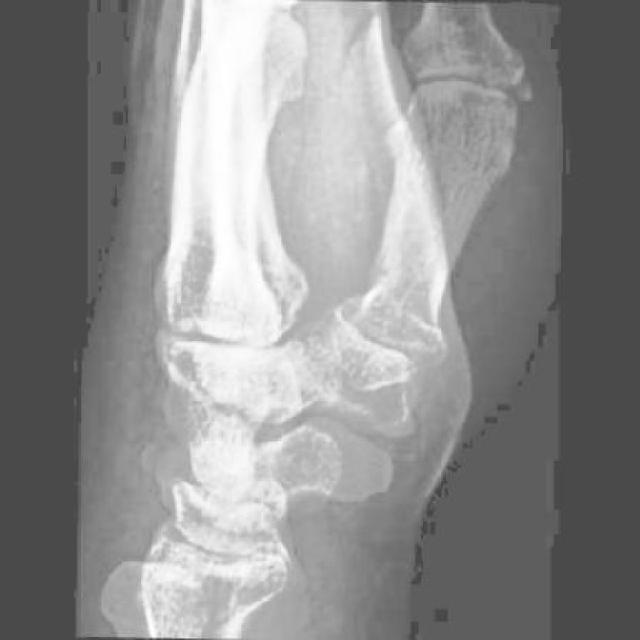Fracture: (125, 429, 200, 494)
